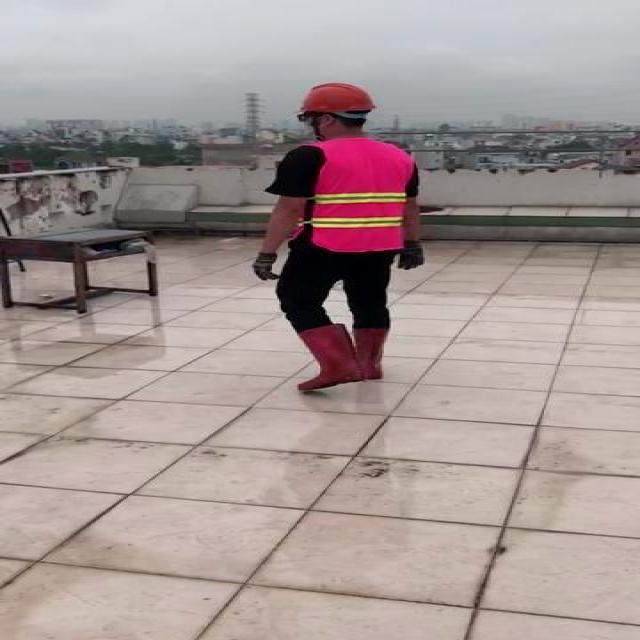boots: (298, 322, 364, 390), (352, 323, 393, 379)
hand_glove: (251, 251, 281, 281), (396, 241, 426, 269)
head_helmet: (294, 79, 382, 118)
person: (233, 72, 437, 396)
vest: (297, 139, 414, 253)
